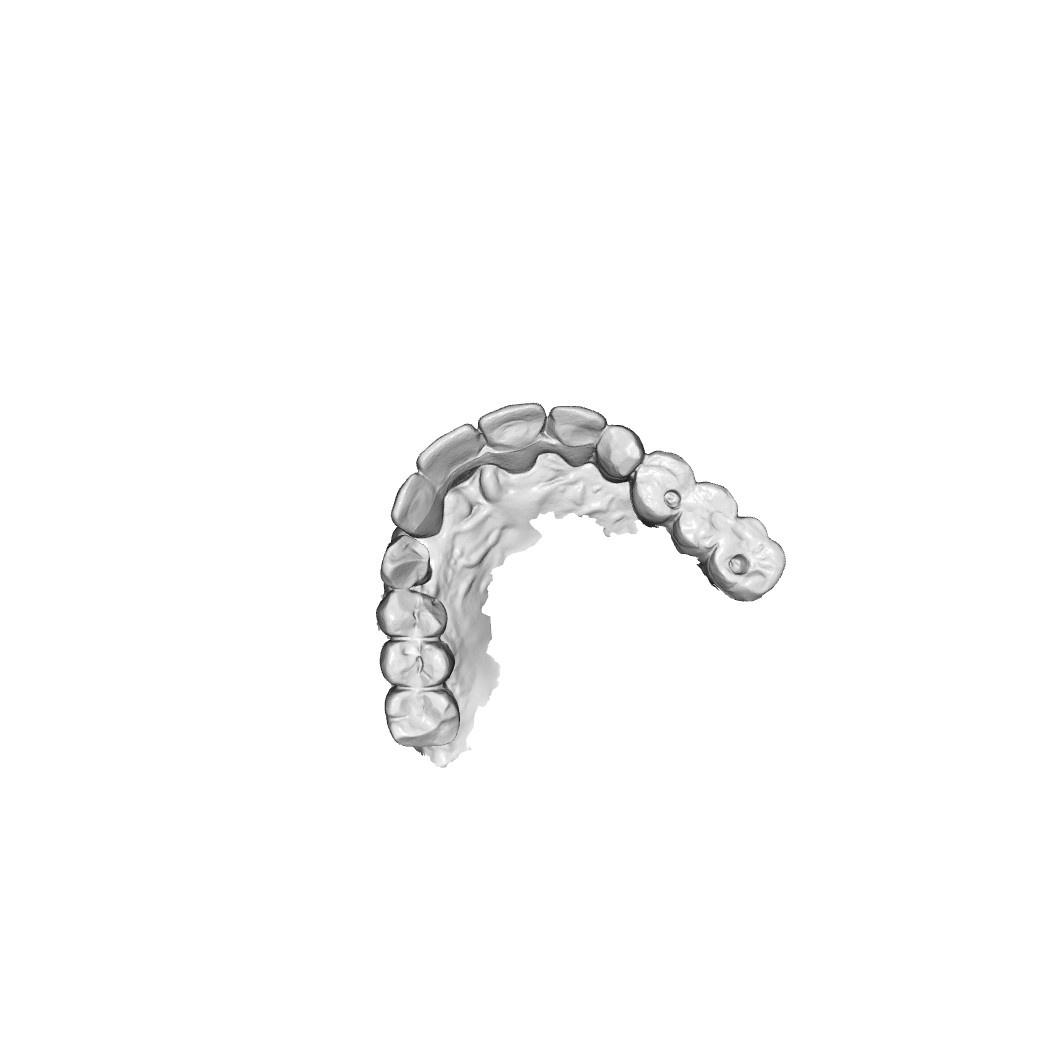canine: (380, 536, 435, 589), (596, 425, 639, 483)
incisor: (544, 402, 611, 468), (421, 428, 486, 485), (481, 404, 541, 464), (389, 477, 443, 533)
molar: (713, 515, 787, 603), (384, 685, 461, 754)
premolar: (676, 486, 739, 554), (632, 454, 692, 513), (384, 592, 444, 639), (385, 640, 448, 683)
